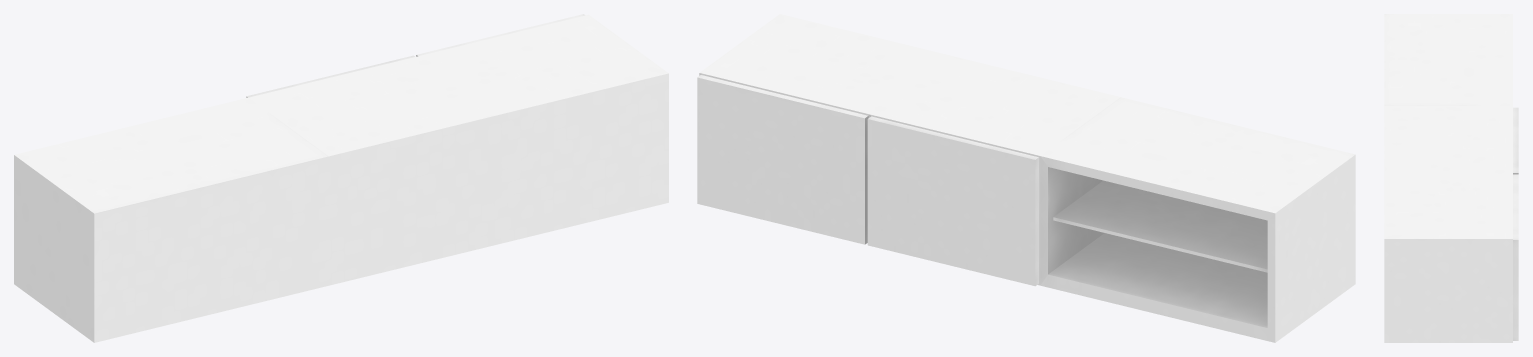
Rendered from TVCabinet.glb.
The picture shows the model from 3 angles, left to right: view 1: azimuth 30°, elevation 25°; view 2: azimuth 150°, elevation 25°; view 3: azimuth 270°, elevation 25°; orthographic projection. The views are drawn at different scales.
Parts seen in each view (by area): view 1: TVСabinet; view 2: TVСabinet; view 3: TVСabinet.
Part boxes in pixels (x1,y1,x2,y2): TVСabinet: (14,14,668,342); TVСabinet: (697,14,1355,342); TVСabinet: (1384,14,1518,342).
Bounding box in the file's own units: 1.86 × 0.4 × 0.47.
Materials: 1 (1 with a texture image).
